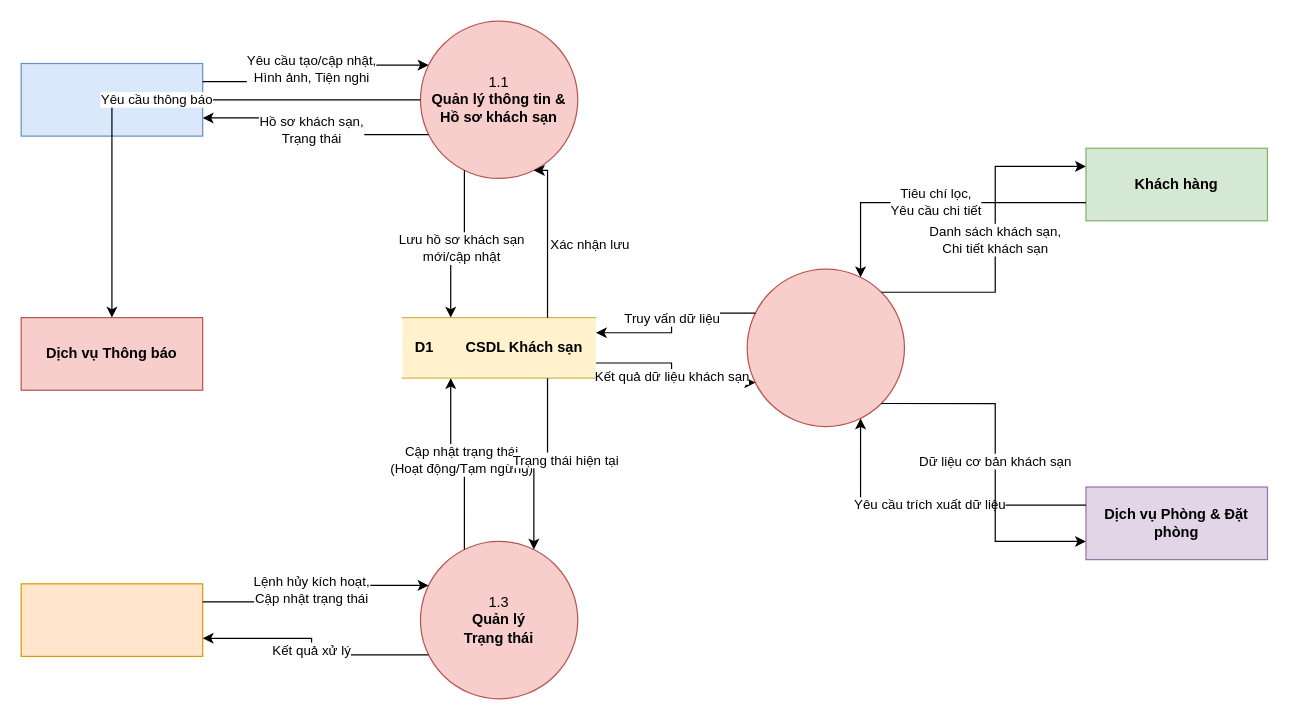
This 1289x720 diagram has some shape labels left out. Each missing label, with the box of its shape:
1.2 Tìm kiếm & Tra cứu: (746, 268, 904, 427)
Quản trị viên: (20, 583, 203, 656)
Đối tác: (20, 62, 203, 136)
